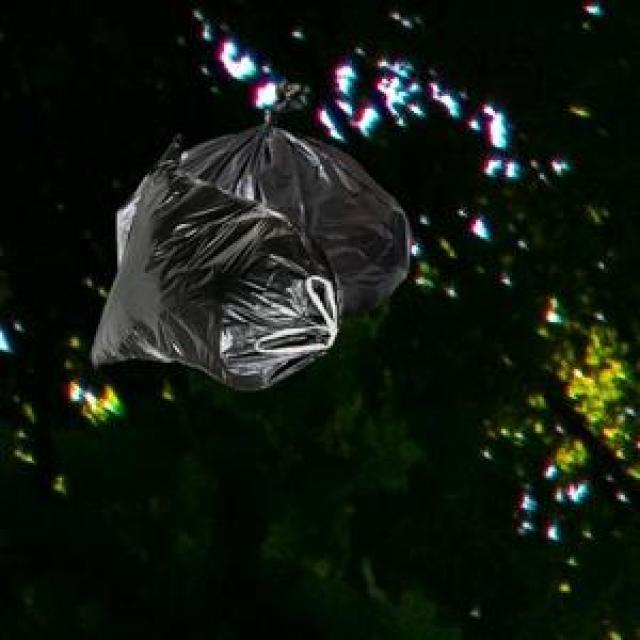Vinyl: (91, 125, 410, 389)
